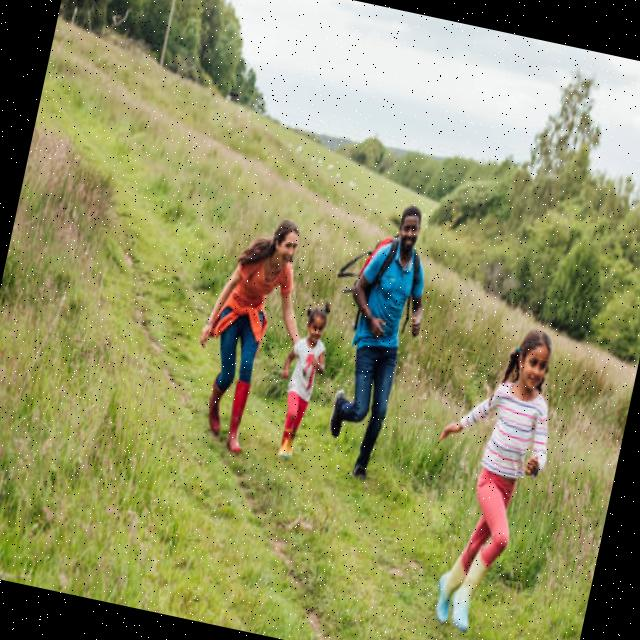Person: (401, 312, 572, 640), (315, 198, 443, 483), (178, 208, 322, 461), (262, 304, 338, 464)
